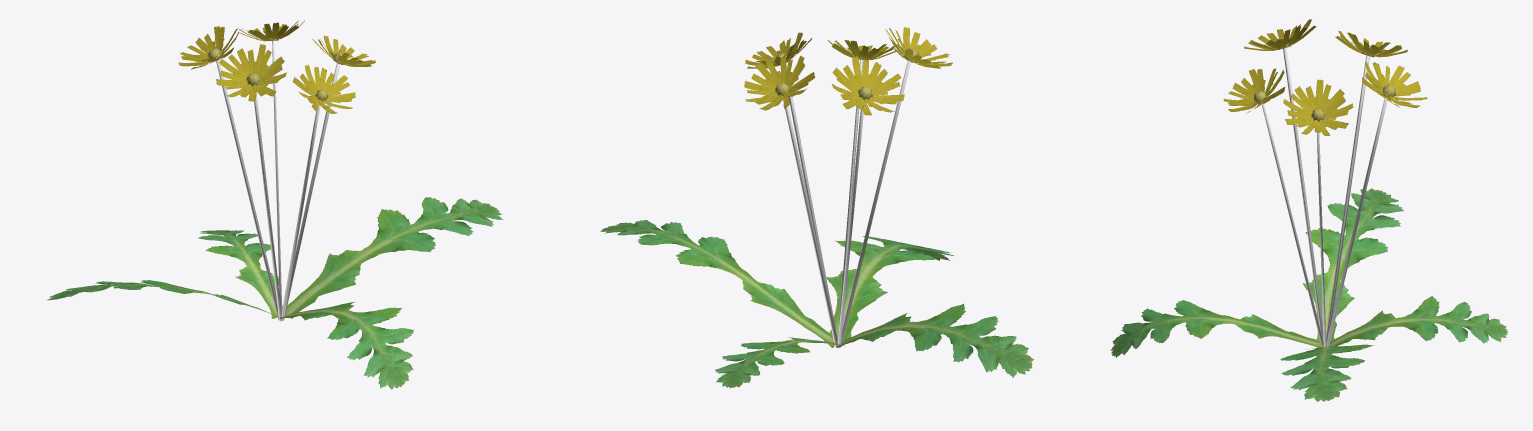
Rendered from HawkbitFlower.fbx.
3 renders of one model, left to right at view 1: azimuth 30°, elevation 25°; view 2: azimuth 150°, elevation 25°; view 3: azimuth 270°, elevation 25°, orthographic. The views are drawn at different scales.
Visible parts, largest first — view 1: HawkbitFlower; view 2: HawkbitFlower; view 3: HawkbitFlower.
Boxes of the visible parts, x1,y1,x2,y2 form: HawkbitFlower: [46, 20, 503, 389]; HawkbitFlower: [600, 27, 1033, 388]; HawkbitFlower: [1110, 19, 1507, 401].
Bounding box in the file's own units: 94.06 × 61.2 × 74.03.
